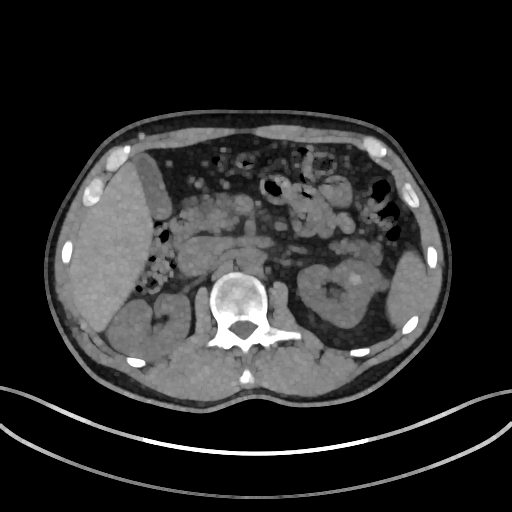Lesion: (345, 267, 368, 292)
